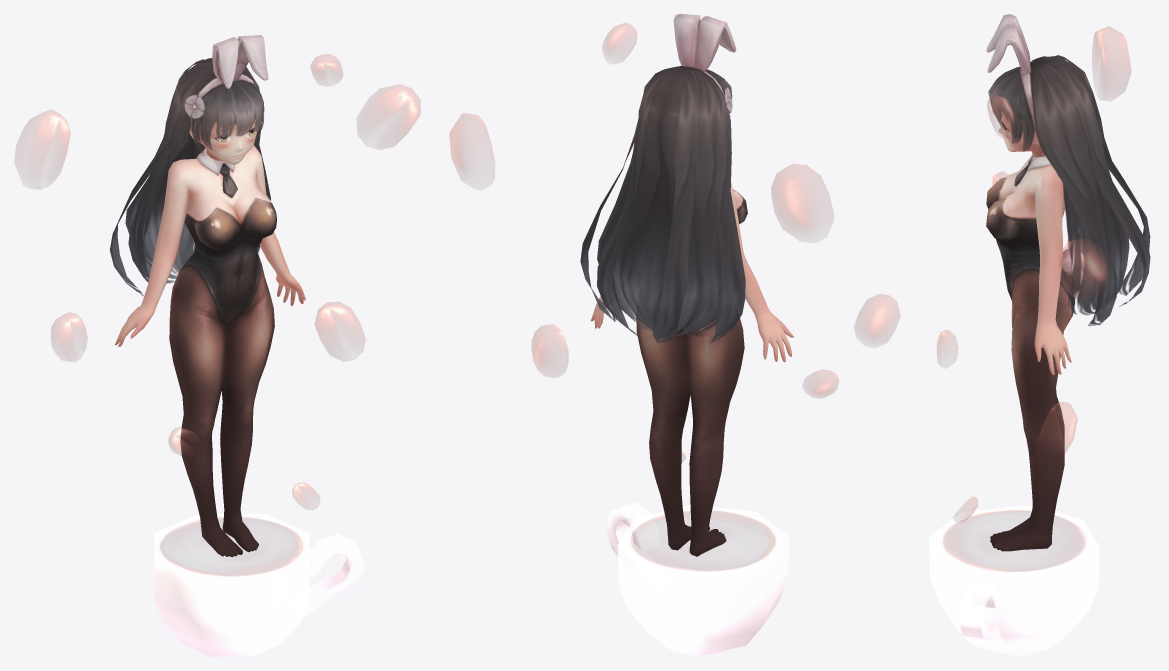
The model's file is Coffee.glb.
The picture shows the model from 3 angles, left to right: view 1: azimuth 30°, elevation 25°; view 2: azimuth 150°, elevation 25°; view 3: azimuth 270°, elevation 25°; orthographic projection. The views are drawn at different scales.
Visible parts, largest first — view 1: Cube.003_Material.001_0, Sphere.009_Material.004_0, Sphere.003_Material.004_0; view 2: Cube.003_Material.001_0, Sphere.009_Material.004_0, Sphere.003_Material.004_0; view 3: Cube.003_Material.001_0, Sphere.009_Material.004_0, Sphere.003_Material.004_0.
Part boxes in pixels (x1,y1,x2,y2): Cube.003_Material.001_0: (110, 35, 305, 557); Sphere.009_Material.004_0: (154, 513, 364, 656); Sphere.003_Material.004_0: (15, 54, 420, 508); Cube.003_Material.001_0: (580, 14, 793, 556); Sphere.009_Material.004_0: (606, 502, 788, 656); Sphere.003_Material.004_0: (449, 23, 900, 462); Cube.003_Material.001_0: (986, 14, 1150, 551); Sphere.009_Material.004_0: (929, 505, 1099, 656); Sphere.003_Material.004_0: (937, 26, 1131, 521).
Bounding box in the file's own units: 1017 × 1481 × 485.
Materials: 2 (2 with a texture image).
